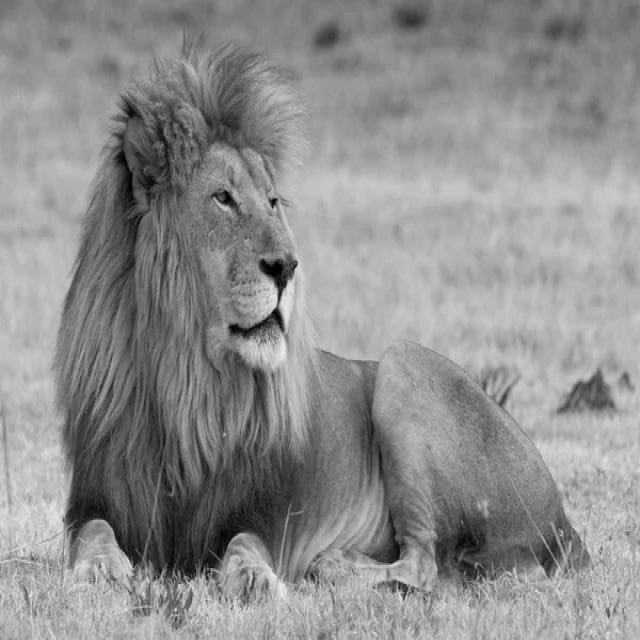Animal: (66, 50, 586, 607)
